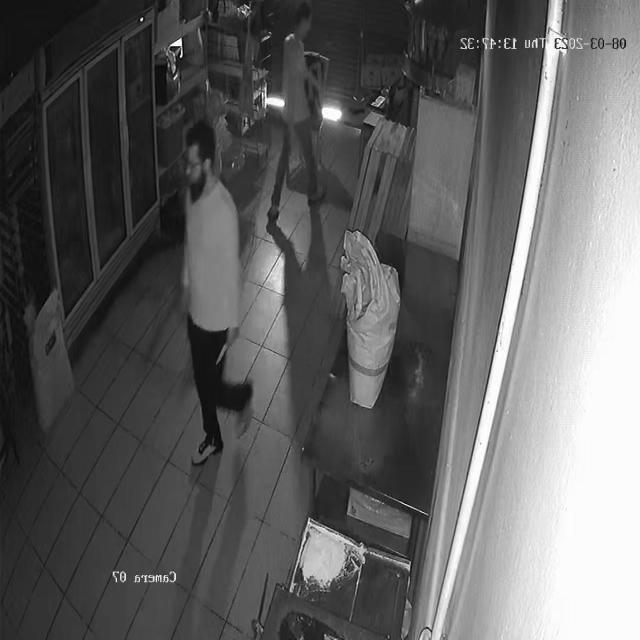Knife: (210, 329, 255, 376)
